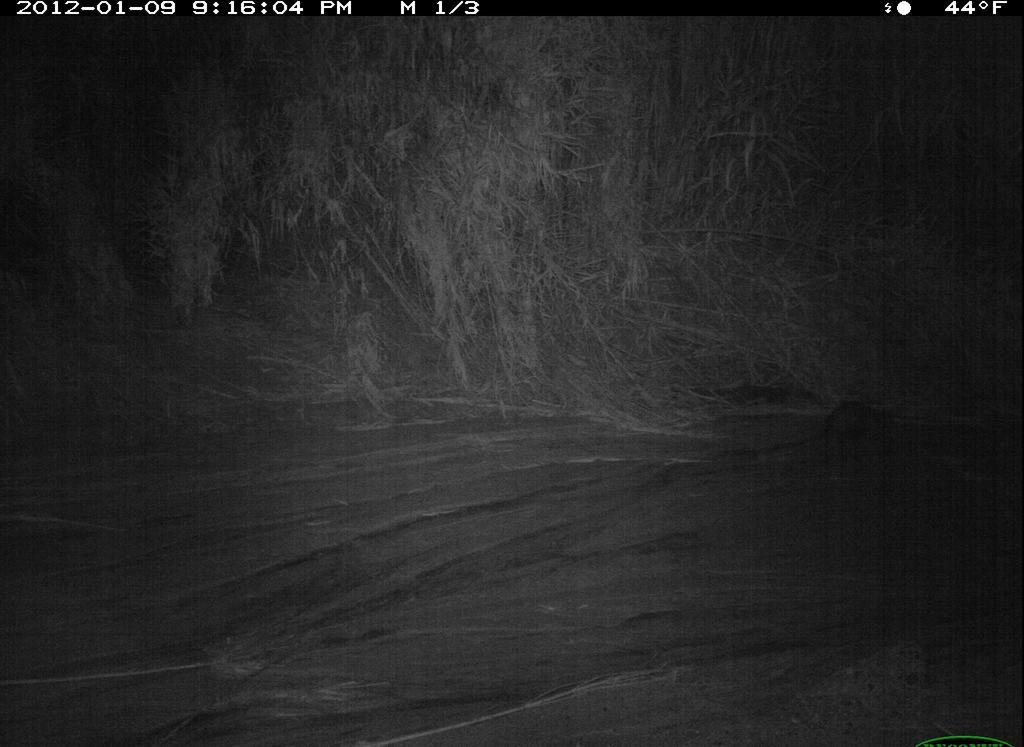opossum: (813, 393, 909, 459)
